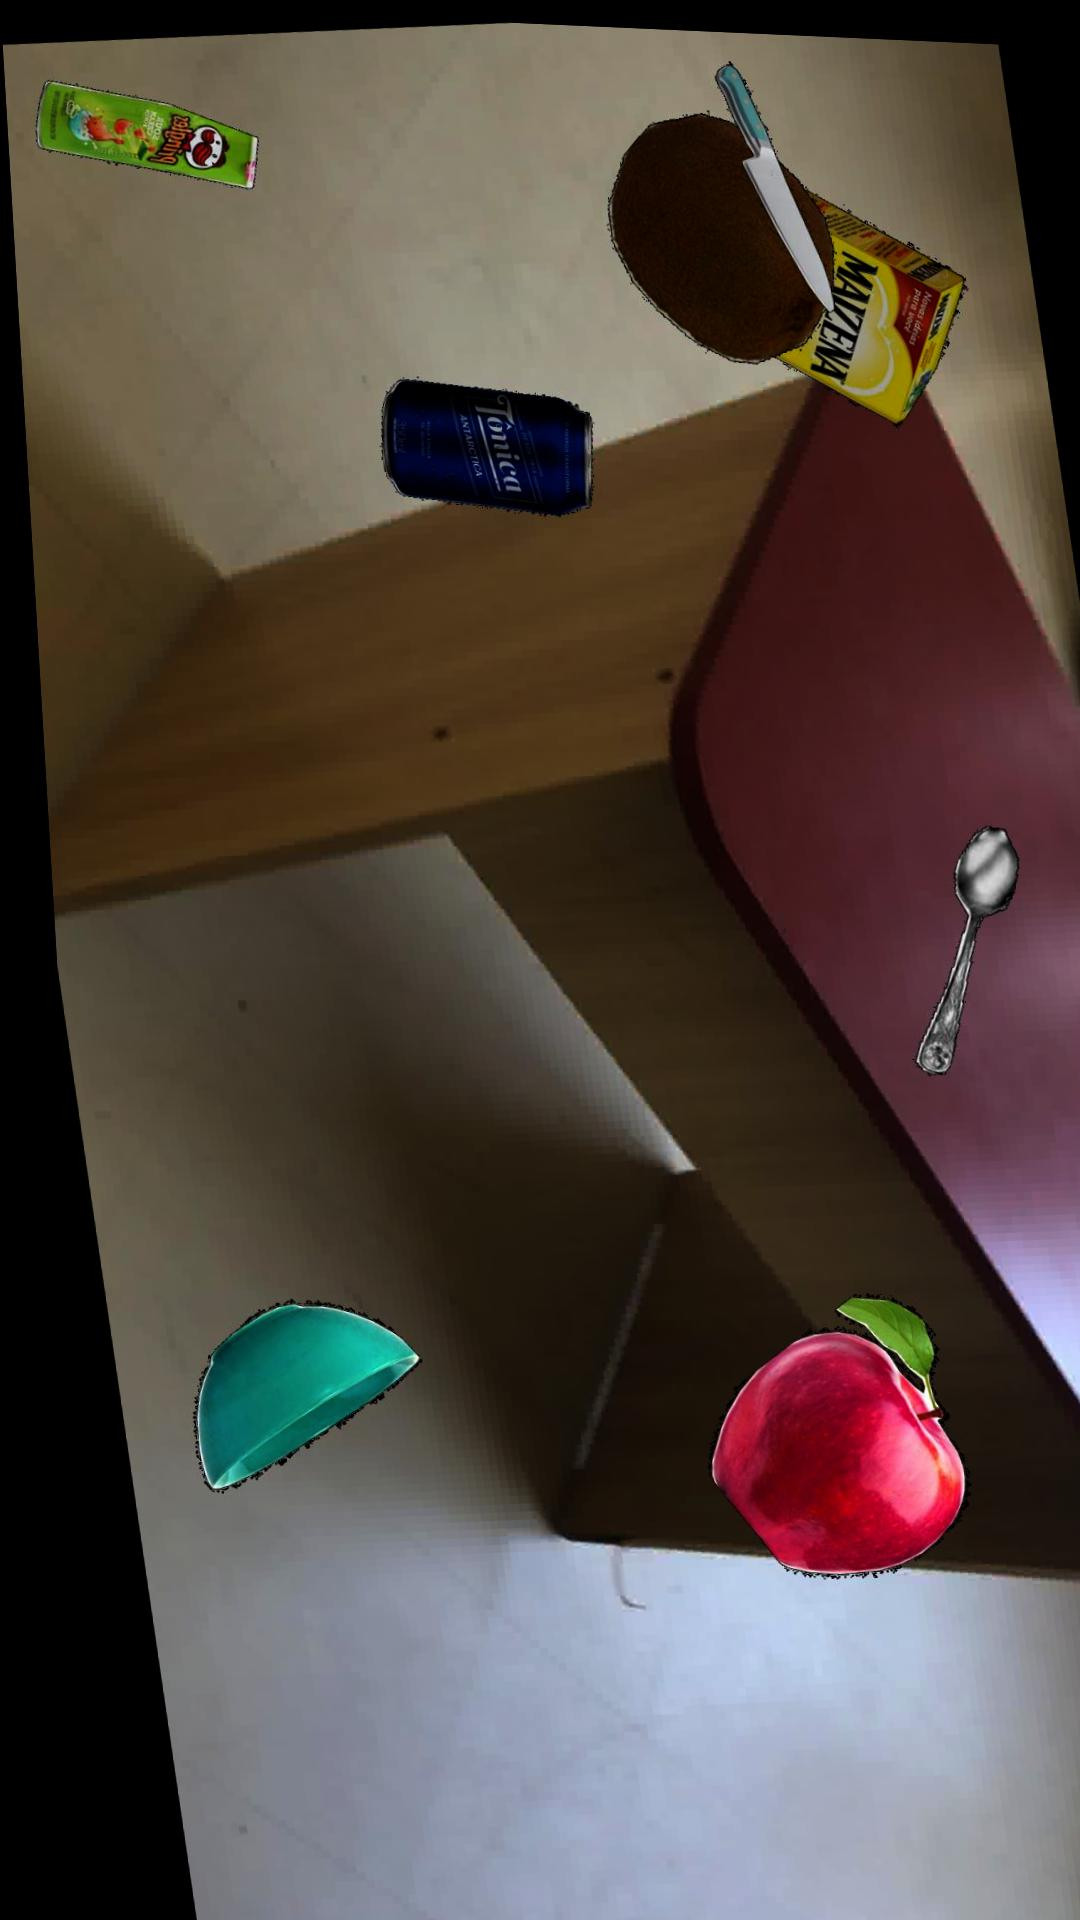apple: (687, 1287, 951, 1571)
bowl: (173, 1298, 400, 1490)
kiwi: (603, 107, 828, 357)
knife: (712, 55, 829, 306)
pringles: (32, 80, 255, 187)
spoon: (899, 818, 1006, 1067)
tonic: (373, 376, 584, 512)
